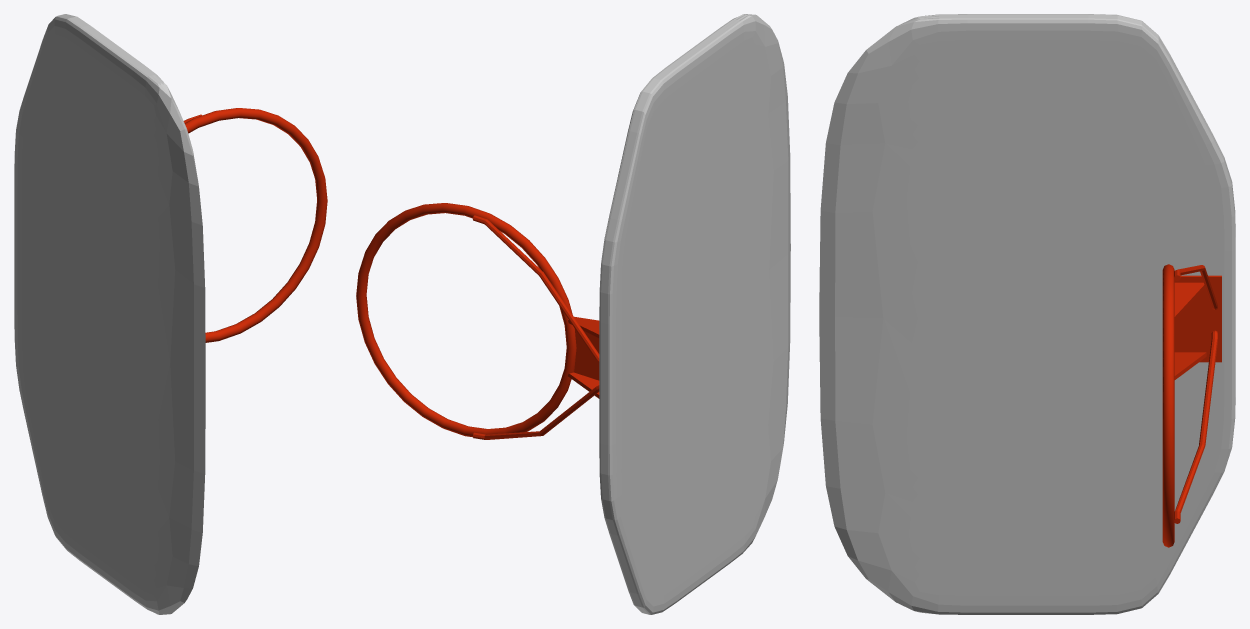
The model's file is basketball_net_and_board.obj.
3 views of the same model, side by side, from view 1: azimuth 30°, elevation 25°; view 2: azimuth 150°, elevation 25°; view 3: azimuth 270°, elevation 25° (orthographic). The views are drawn at different scales.
Parts seen in each view (by area): view 1: Cube, BezierCircle_Mesh; view 2: Cube, BezierCircle_Mesh, Cube.001; view 3: Cube, Cube.001, BezierCircle_Mesh.
Part boxes in pixels (x1,y1,x2,y2): Cube: (14, 14, 205, 614); BezierCircle_Mesh: (184, 108, 327, 342); Cube: (599, 14, 790, 614); BezierCircle_Mesh: (356, 203, 576, 437); Cube.001: (472, 215, 599, 439); Cube: (819, 14, 1235, 614); Cube.001: (1174, 265, 1221, 523); BezierCircle_Mesh: (1162, 264, 1174, 547).
Size of the model in its own units: 60.86 by 109 by 69.03.
